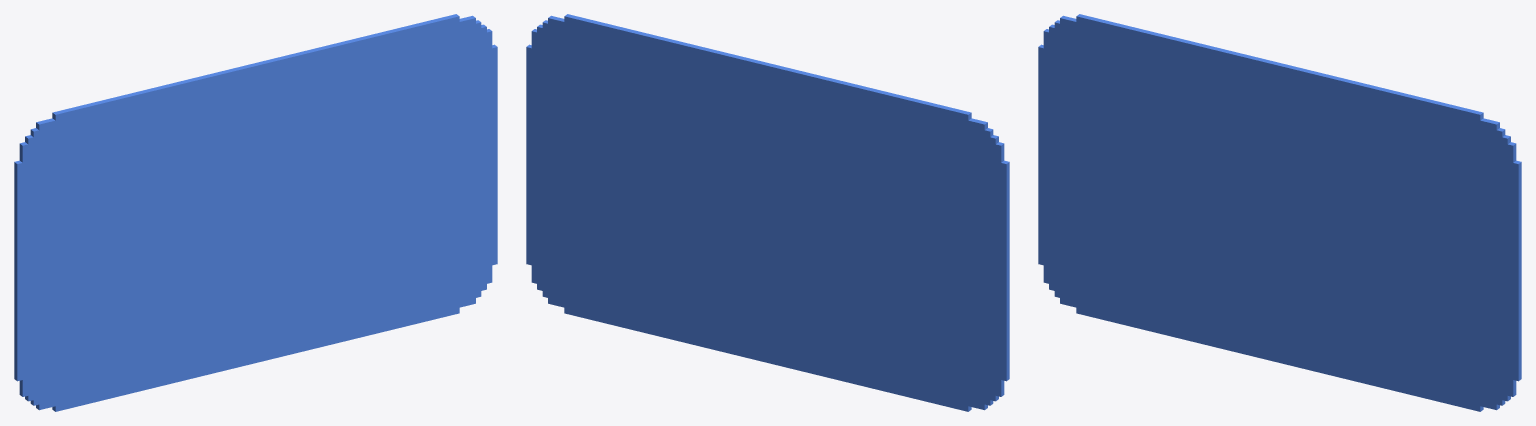
File: Window_Medium.obj
The picture shows the model from 3 angles, left to right: view 1: azimuth 30°, elevation 25°; view 2: azimuth 150°, elevation 25°; view 3: azimuth 330°, elevation 25°; orthographic projection.
Parts seen in each view (by area): view 1: Window_Medium; view 2: Window_Medium; view 3: Window_Medium.
Part boxes in pixels (x1,y1,x2,y2): Window_Medium: [14, 14, 497, 411]; Window_Medium: [526, 14, 1009, 411]; Window_Medium: [1038, 14, 1521, 411].
Bounding box in the file's own units: 88 × 52 × 1.
1 material, 1 textured.
